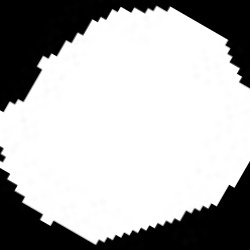spot: (2, 5, 248, 242)
